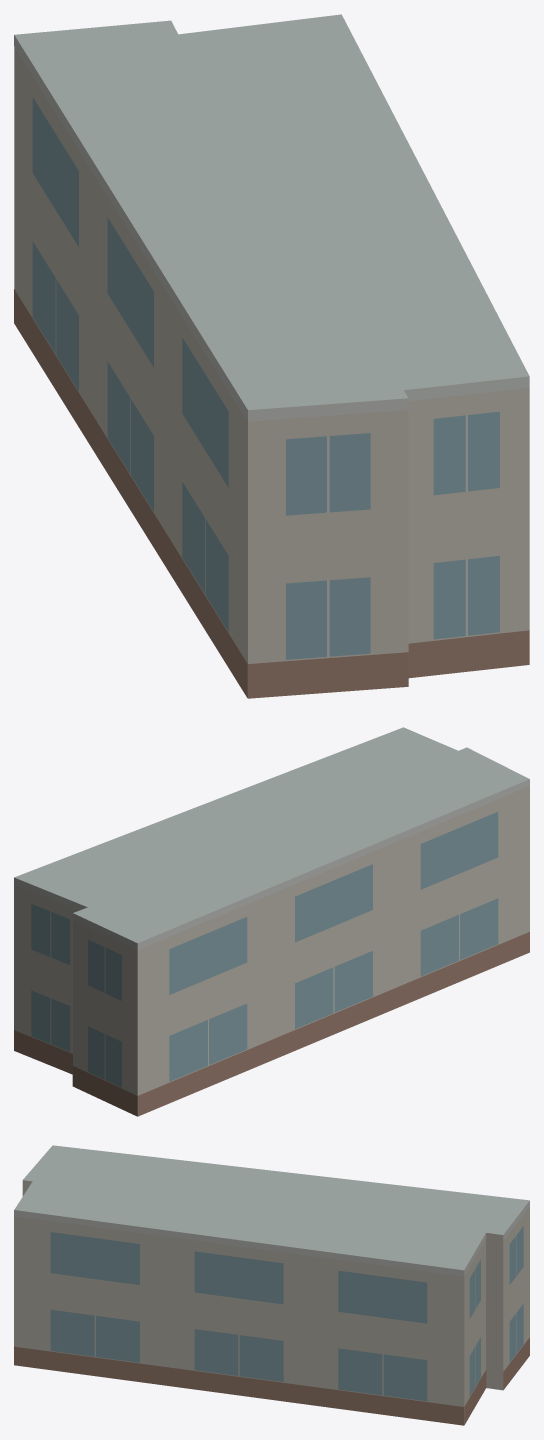
The model's file is survey-upis-32788721.glb.
The picture shows the model from 3 angles, top to bottom: view 1: azimuth 30°, elevation 25°; view 2: azimuth 150°, elevation 25°; view 3: azimuth 270°, elevation 25°; orthographic projection. The views are drawn at different scales.
Visible parts, largest first — view 1: survey-upis-32788721.tmp; view 2: survey-upis-32788721.tmp; view 3: survey-upis-32788721.tmp.
Boxes of the visible parts, x1,y1,x2,y2 form: survey-upis-32788721.tmp: (14,14,529,698); survey-upis-32788721.tmp: (14,727,529,1116); survey-upis-32788721.tmp: (14,1145,529,1425).
Size of the model in its own units: 10.54 by 6.1 by 18.37.
